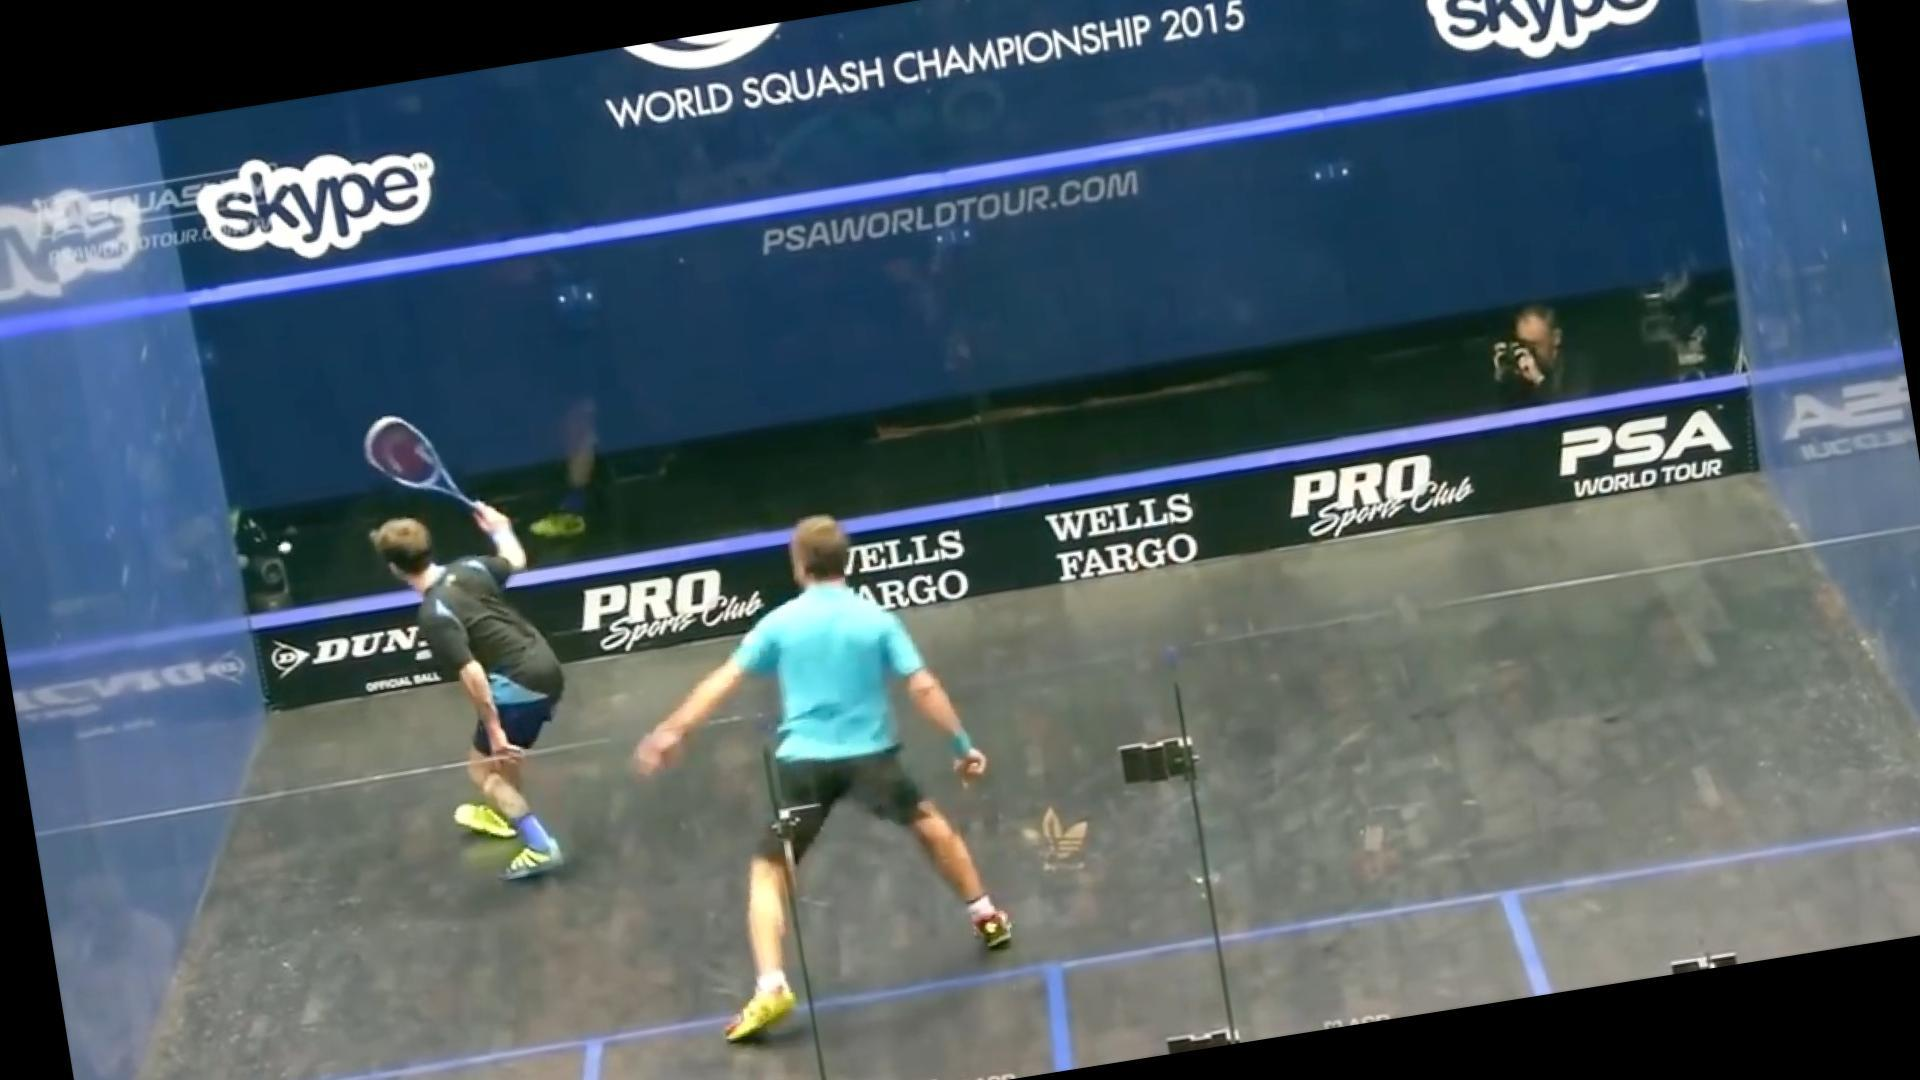Squash-Ball: (257, 517, 316, 578)
